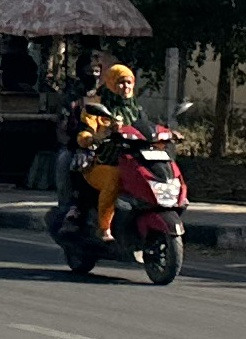BikeWithRider: (38, 45, 199, 289)
NoHelmet: (97, 60, 142, 102), (67, 46, 108, 91)
